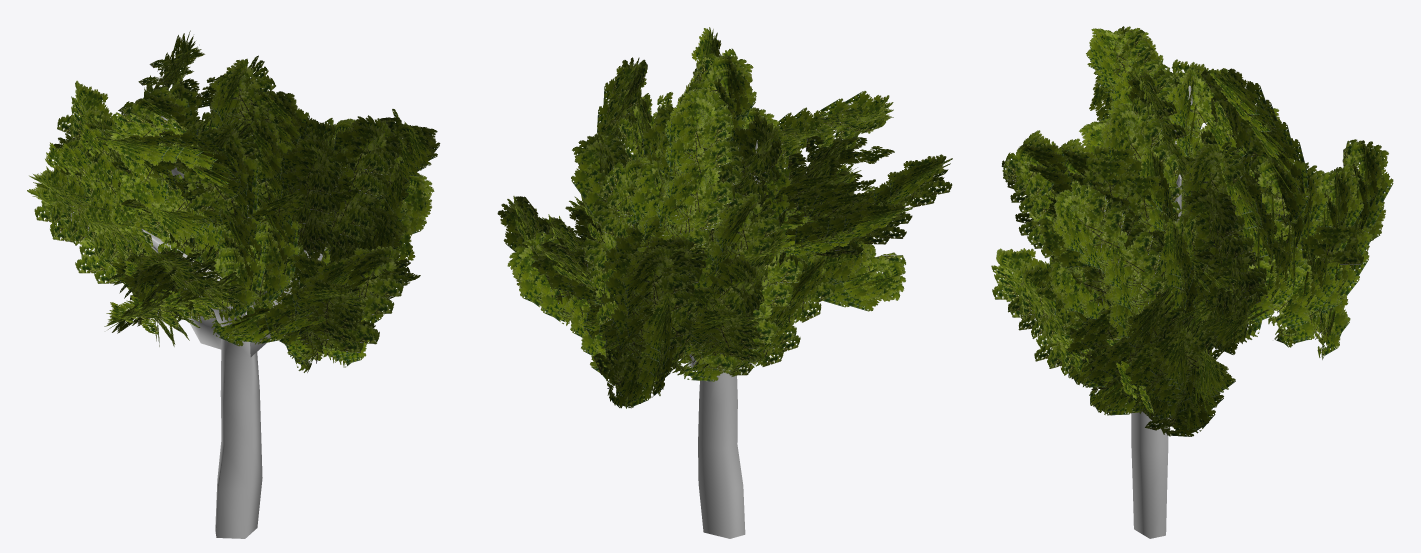
File: tree.FBX
The picture shows the model from 3 angles, left to right: view 1: azimuth 30°, elevation 25°; view 2: azimuth 150°, elevation 25°; view 3: azimuth 270°, elevation 25°; orthographic projection. The views are drawn at different scales.
Parts seen in each view (by area): view 1: tree, bark; view 2: tree, bark; view 3: tree, bark.
Boxes of the visible parts, bbox=[...] form: tree: bbox=[27, 30, 440, 372]; bark: bbox=[139, 115, 327, 538]; tree: bbox=[497, 27, 952, 408]; bark: bbox=[688, 140, 759, 538]; tree: bbox=[991, 26, 1393, 436]; bark: bbox=[1131, 85, 1213, 538].
Bounding box in the file's own units: 1636 × 1721 × 1387.
